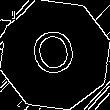O_S: (27, 25, 83, 85)
